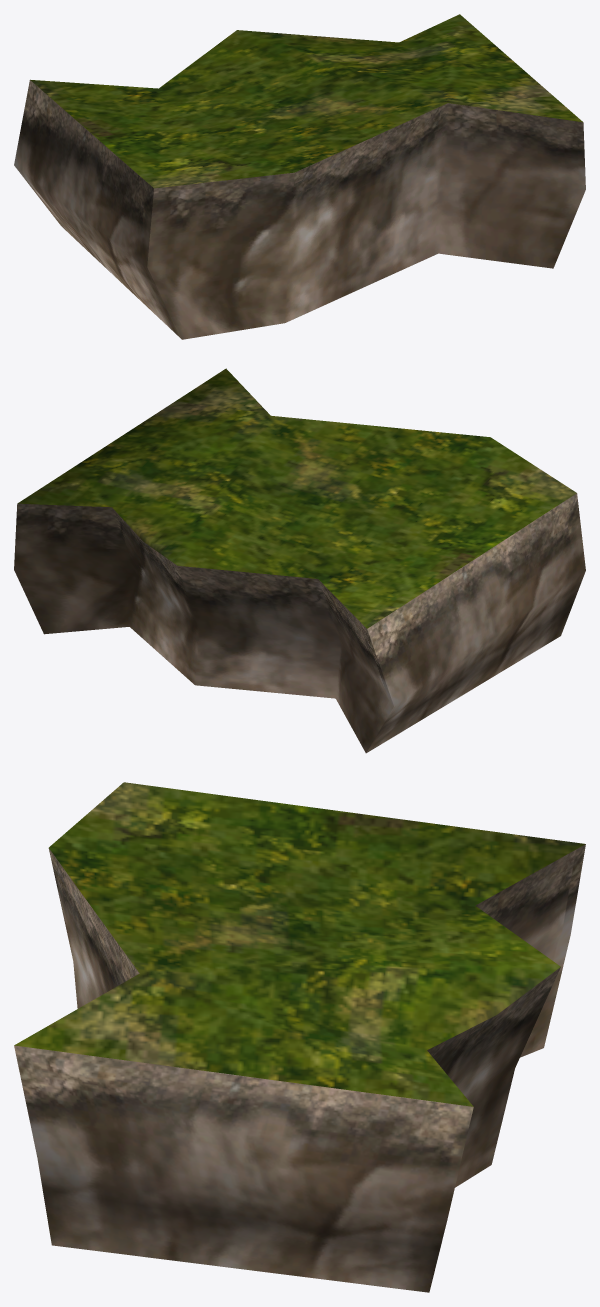
Rendered from ANIMATEDINSTANCES_BAT_ROCKFALL_01__BA.fbx.
3 renders of one model, top to bottom at view 1: azimuth 30°, elevation 25°; view 2: azimuth 150°, elevation 25°; view 3: azimuth 270°, elevation 25°, orthographic. The views are drawn at different scales.
Visible parts, largest first — view 1: ANIMATEDINSTANCES_BAT_ROCKFALL_01__BA; view 2: ANIMATEDINSTANCES_BAT_ROCKFALL_01__BA; view 3: ANIMATEDINSTANCES_BAT_ROCKFALL_01__BA.
Boxes of the visible parts, <box> form: ANIMATEDINSTANCES_BAT_ROCKFALL_01__BA: <box>14,14,585,339</box>; ANIMATEDINSTANCES_BAT_ROCKFALL_01__BA: <box>14,368,585,753</box>; ANIMATEDINSTANCES_BAT_ROCKFALL_01__BA: <box>14,782,585,1292</box>.
Size of the model in its own units: 13373 by 4869 by 10564.
3 materials, 3 textured.
